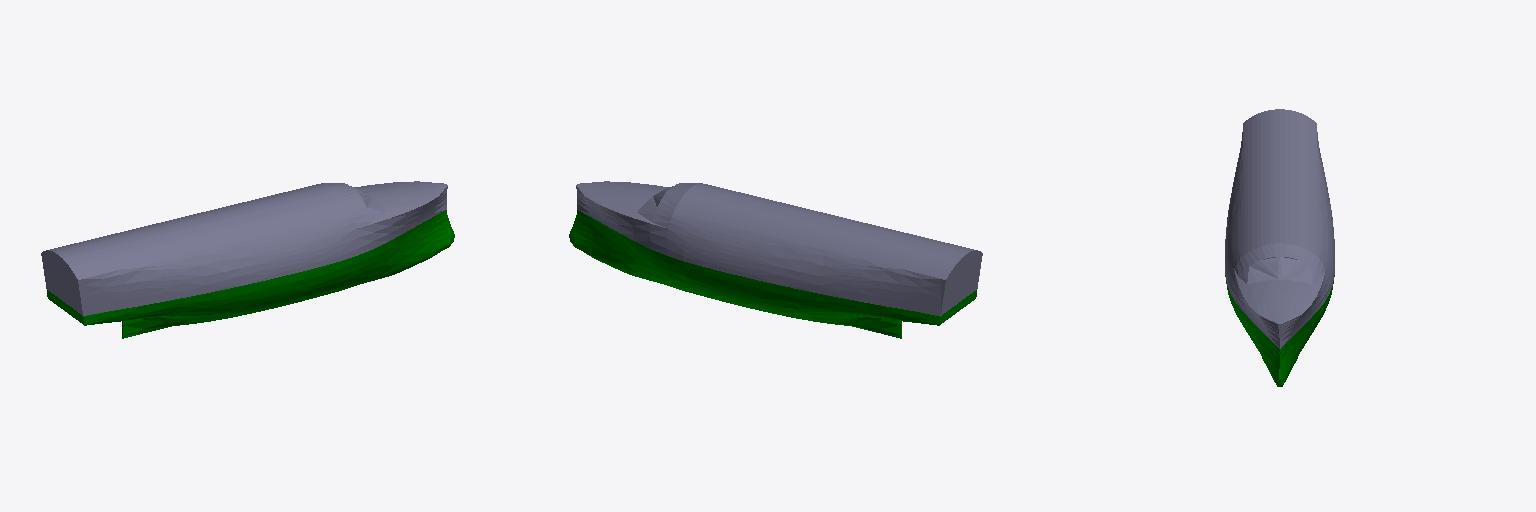
Rendered from 2006 Плавниковый подзор.obj.
The picture shows the model from 3 angles: view 1: azimuth 30°, elevation 25°; view 2: azimuth 150°, elevation 25°; view 3: azimuth 270°, elevation 25°; orthographic projection.
Size of the model in its own units: 62.25 by 15 by 15.